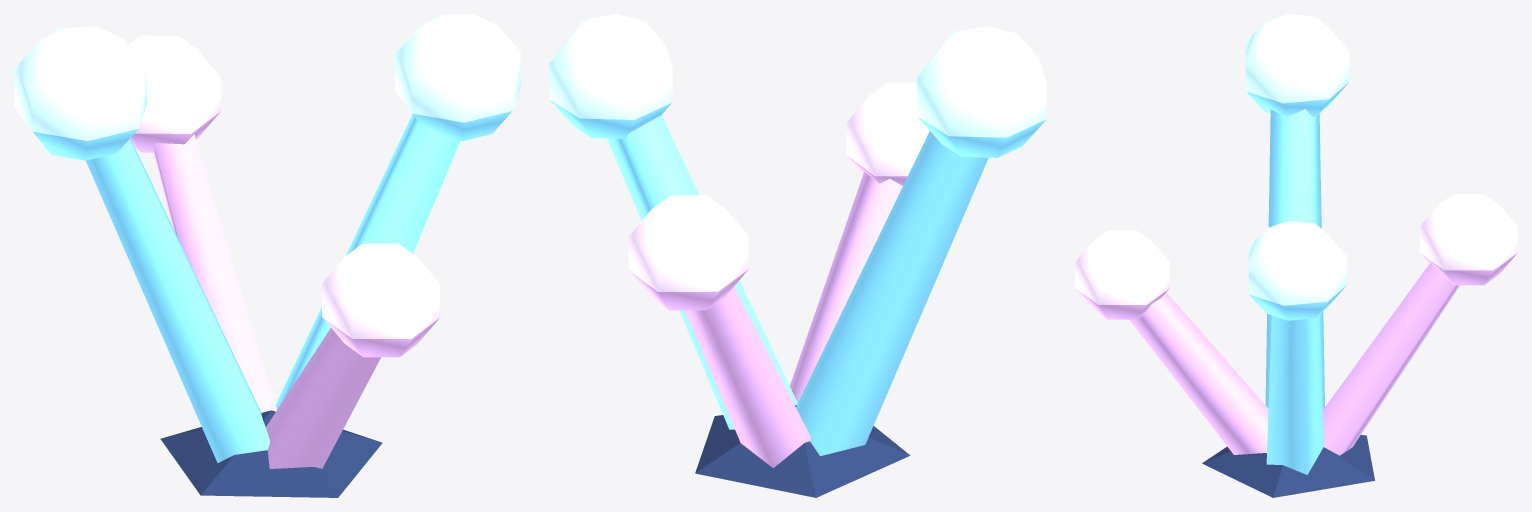
The model's file is glow-coral.glb.
3 views of the same model, side by side, from view 1: azimuth 30°, elevation 25°; view 2: azimuth 150°, elevation 25°; view 3: azimuth 270°, elevation 25° (orthographic). The views are drawn at different scales.
Visible parts, largest first — view 1: glow-coral; view 2: glow-coral; view 3: glow-coral.
Part boxes in pixels (x1=…): glow-coral: x1=14, y1=14, x2=520, y2=497; glow-coral: x1=549, y1=14, x2=1046, y2=497; glow-coral: x1=1075, y1=14, x2=1517, y2=497.
Bounding box in the file's own units: 3 × 3 × 3.
